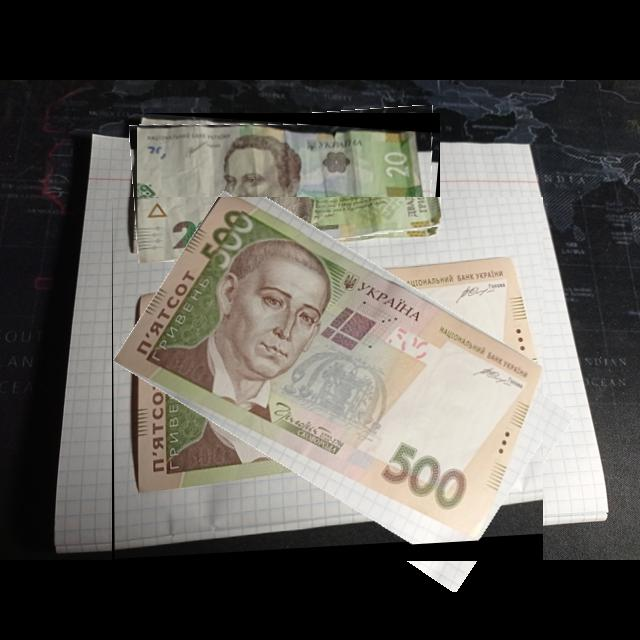20uah: (137, 123, 433, 266)
500uah: (113, 197, 544, 546)
